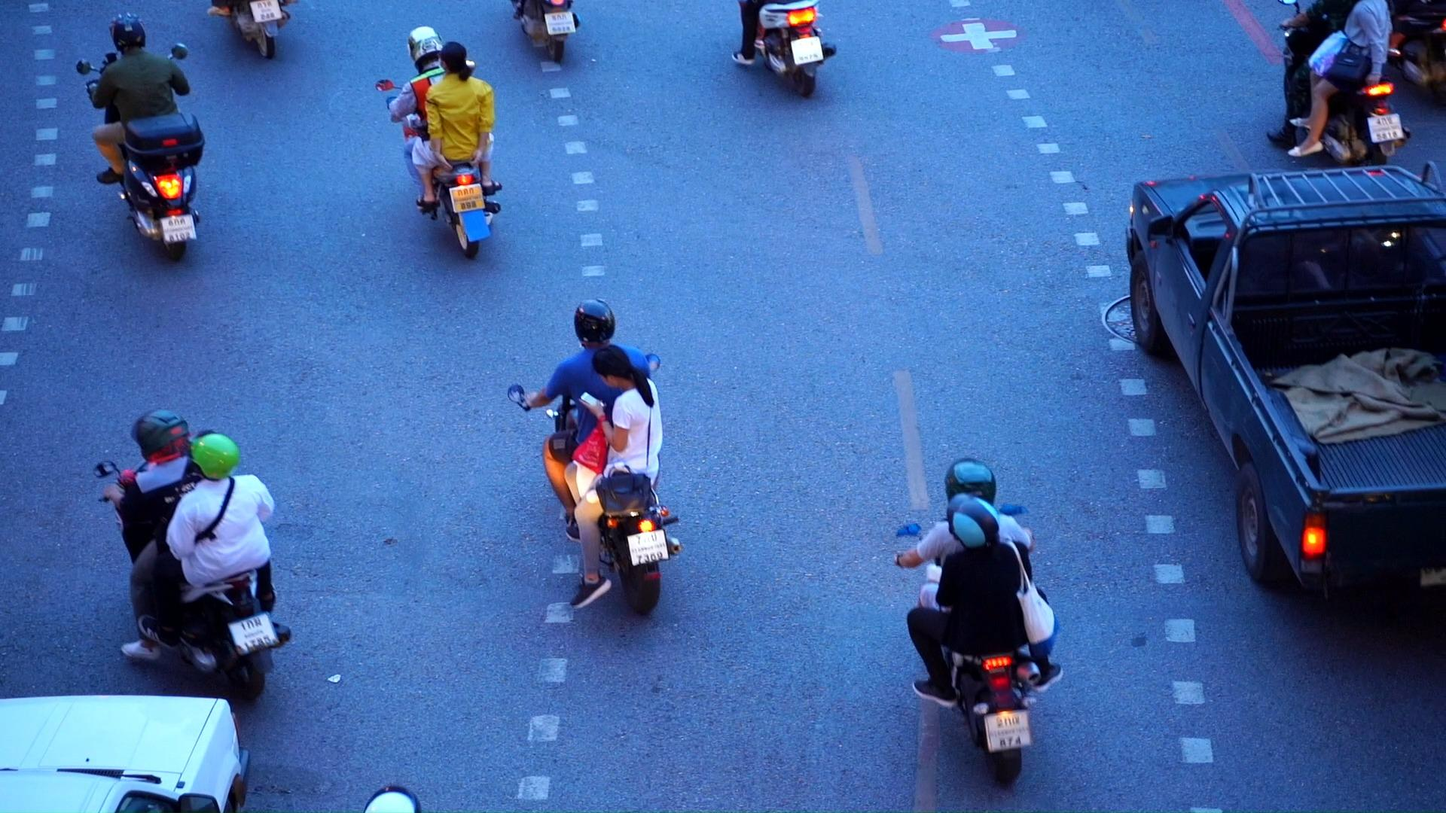driver: (92, 408, 290, 699), (892, 457, 1063, 785), (507, 300, 683, 614), (76, 12, 206, 262), (374, 25, 503, 260), (1265, 0, 1412, 165), (731, 1, 837, 97), (208, 0, 298, 60)
helmet: (130, 407, 190, 463), (948, 493, 999, 551), (186, 429, 240, 481), (945, 457, 996, 506), (574, 300, 615, 347), (406, 26, 444, 71), (108, 12, 147, 55), (363, 785, 422, 813)
no-helmet: (592, 344, 652, 389), (436, 41, 472, 82)
